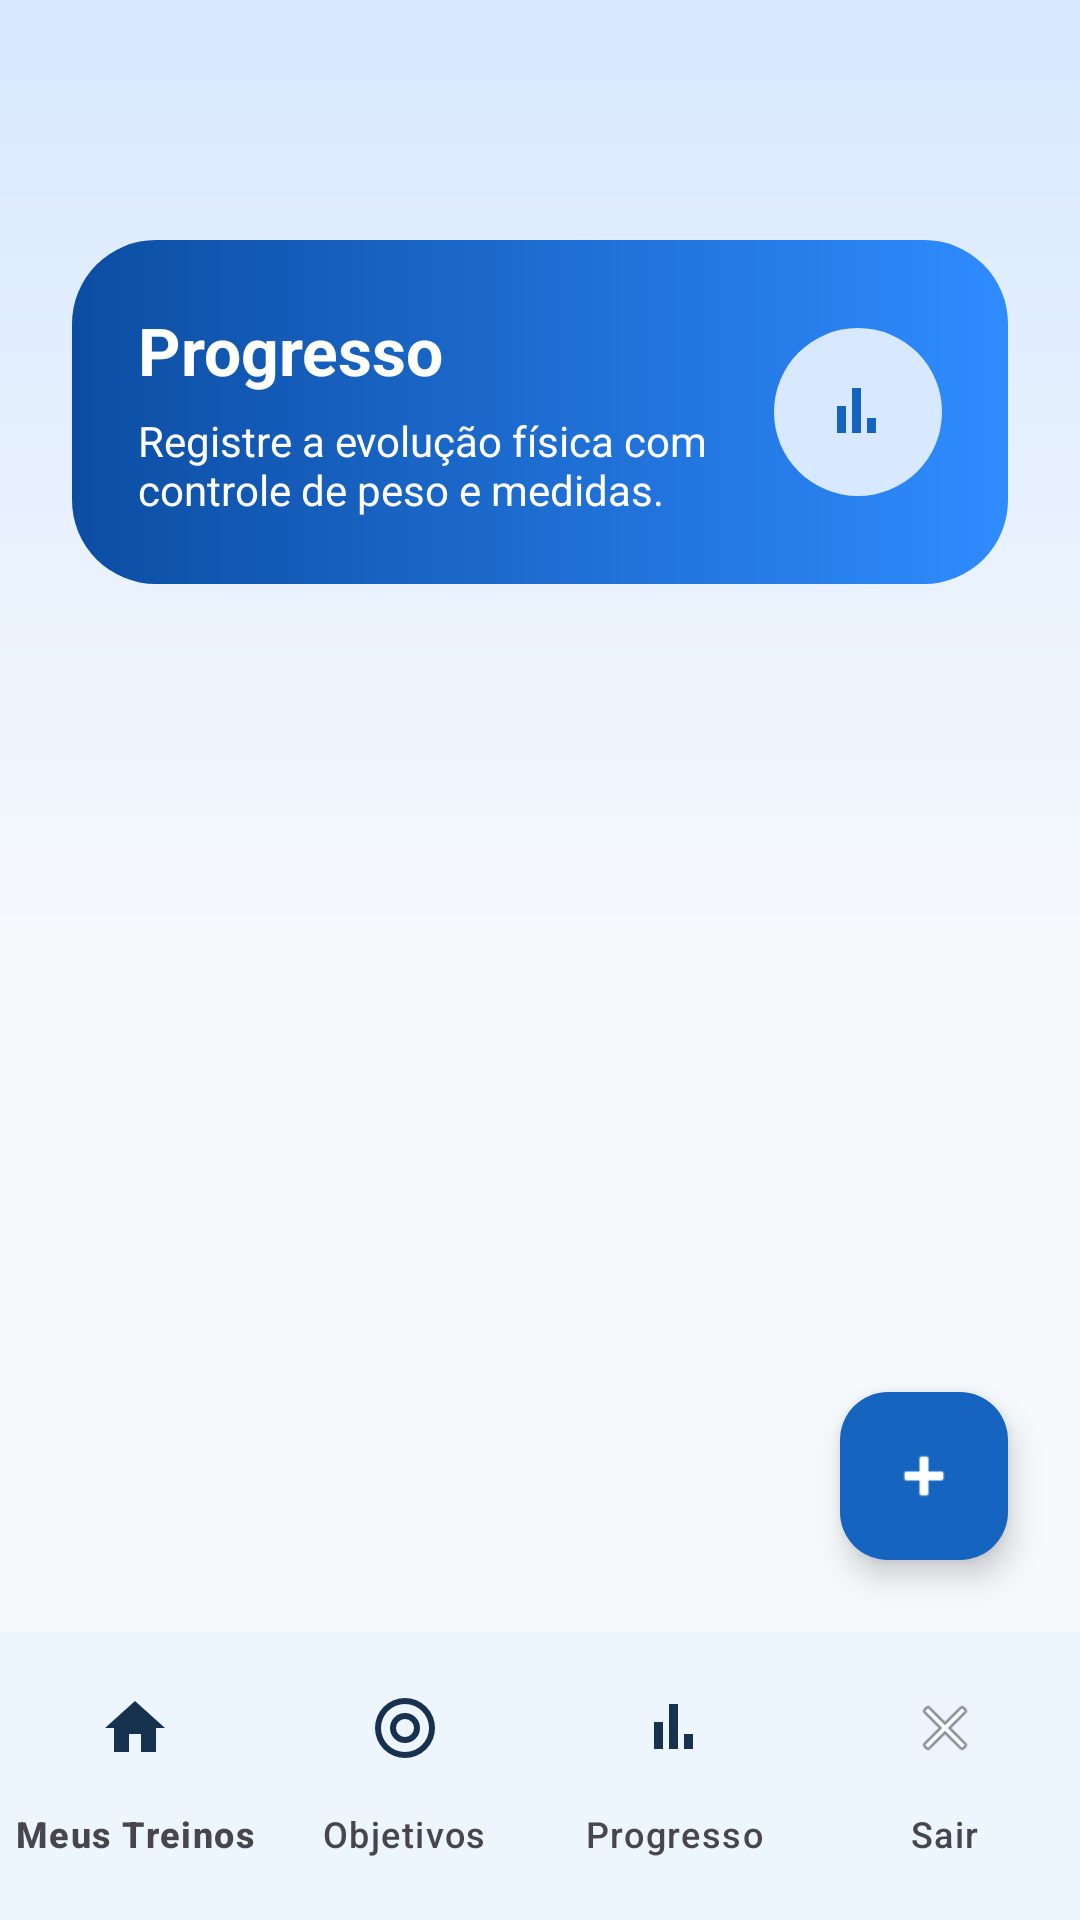

Where to tap for icons on this 1080px×1920px app screen, as (x,y):
Adicionar progresso: (924,1476)
